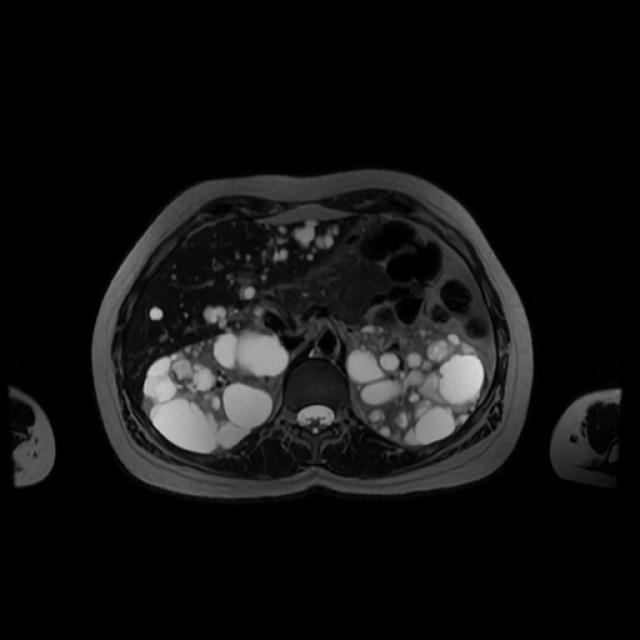sag: (144, 329, 289, 451)
sol: (350, 322, 485, 447)
